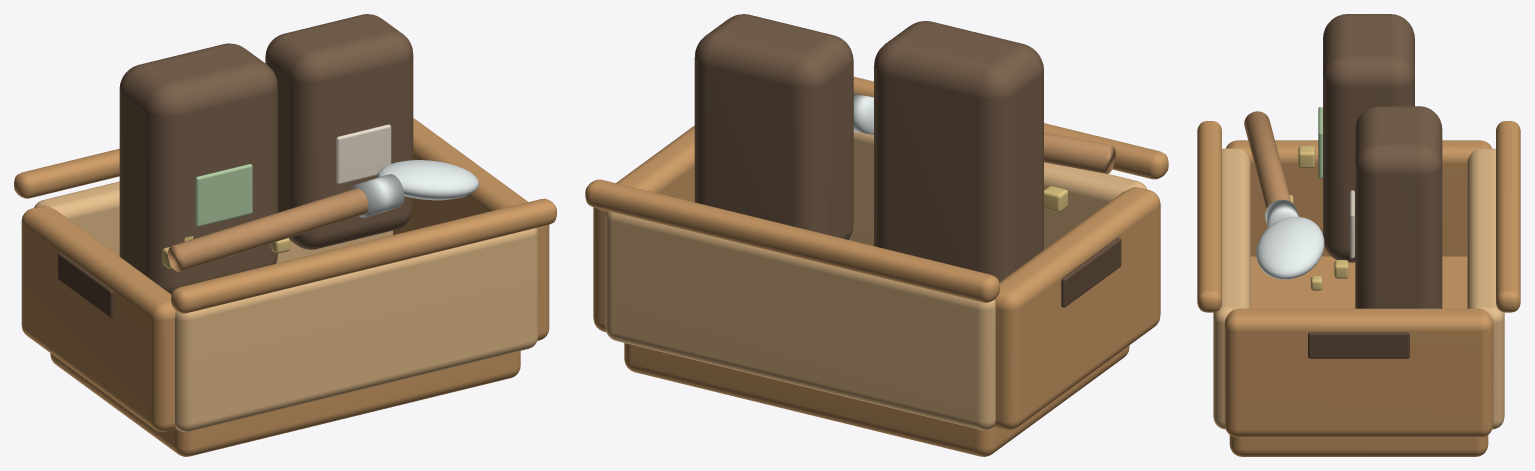
File: FarmSupplyKit.glb
3 views of the same model, side by side, from view 1: azimuth 30°, elevation 25°; view 2: azimuth 150°, elevation 25°; view 3: azimuth 270°, elevation 25° (orthographic). The views are drawn at different scales.
Parts seen in each view (by area): view 1: FarmSupplyKit_Crate_Front, FarmSupplyKit_Sack_Left, FarmSupplyKit_Sack_Right, FarmSupplyKit_Crate_Left, FarmSupplyKit_Crate_Rim_Front, FarmSupplyKit_Crate_Base, FarmSupplyKit_Crate_Right, FarmSupplyKit_Scoop_Handle, FarmSupplyKit_Crate_Back, FarmSupplyKit_Sack_Left_Label, FarmSupplyKit_Crate_Rim_Back, FarmSupplyKit_Scoop_Bowl (+3 smaller); view 2: FarmSupplyKit_Crate_Back, FarmSupplyKit_Sack_Left, FarmSupplyKit_Sack_Right, FarmSupplyKit_Crate_Left, FarmSupplyKit_Crate_Rim_Back, FarmSupplyKit_Crate_Base, FarmSupplyKit_Crate_Front, FarmSupplyKit_Crate_Right, FarmSupplyKit_Crate_Rim_Front, FarmSupplyKit_Scoop_Handle, FarmSupplyKit_Crate_Handle_Left, FarmSupplyKit_Scoop_Collar; view 3: FarmSupplyKit_Crate_Right, FarmSupplyKit_Sack_Right, FarmSupplyKit_Sack_Left, FarmSupplyKit_Crate_Base, FarmSupplyKit_Crate_Left, FarmSupplyKit_Crate_Front, FarmSupplyKit_Crate_Back, FarmSupplyKit_Crate_Rim_Front, FarmSupplyKit_Crate_Rim_Back, FarmSupplyKit_Scoop_Bowl, FarmSupplyKit_Crate_Handle_Right, FarmSupplyKit_Scoop_Handle (+4 smaller).
Boxes of the visible parts, x1,y1,x2,y2 form: FarmSupplyKit_Crate_Front: (175, 228, 538, 432); FarmSupplyKit_Sack_Left: (119, 43, 277, 294); FarmSupplyKit_Sack_Right: (265, 14, 413, 249); FarmSupplyKit_Crate_Left: (21, 205, 176, 431); FarmSupplyKit_Crate_Rim_Front: (171, 198, 556, 313); FarmSupplyKit_Crate_Base: (50, 351, 520, 456); FarmSupplyKit_Crate_Right: (393, 118, 549, 340); FarmSupplyKit_Scoop_Handle: (168, 188, 368, 271); FarmSupplyKit_Crate_Back: (34, 181, 392, 263); FarmSupplyKit_Sack_Left_Label: (195, 164, 252, 226); FarmSupplyKit_Crate_Rim_Back: (14, 148, 119, 198); FarmSupplyKit_Scoop_Bowl: (377, 160, 478, 200); FarmSupplyKit_Crate_Back: (605, 211, 995, 430); FarmSupplyKit_Sack_Left: (874, 21, 1043, 282); FarmSupplyKit_Sack_Right: (694, 14, 853, 239); FarmSupplyKit_Crate_Left: (994, 187, 1160, 430); FarmSupplyKit_Crate_Rim_Back: (585, 179, 999, 302); FarmSupplyKit_Crate_Base: (624, 343, 1129, 456); FarmSupplyKit_Crate_Front: (848, 131, 1147, 249); FarmSupplyKit_Crate_Right: (593, 125, 694, 332); FarmSupplyKit_Crate_Rim_Front: (853, 76, 1168, 179); FarmSupplyKit_Scoop_Handle: (1044, 132, 1115, 173); FarmSupplyKit_Crate_Handle_Left: (1061, 237, 1121, 307); FarmSupplyKit_Scoop_Collar: (853, 93, 873, 134); FarmSupplyKit_Crate_Right: (1224, 308, 1493, 437); FarmSupplyKit_Sack_Right: (1355, 106, 1442, 308); FarmSupplyKit_Sack_Left: (1323, 14, 1414, 262); FarmSupplyKit_Crate_Base: (1229, 256, 1488, 456); FarmSupplyKit_Crate_Left: (1226, 140, 1491, 256); FarmSupplyKit_Crate_Front: (1213, 148, 1250, 429); FarmSupplyKit_Crate_Back: (1467, 148, 1504, 429); FarmSupplyKit_Crate_Rim_Front: (1197, 121, 1221, 312); FarmSupplyKit_Crate_Rim_Back: (1496, 121, 1520, 312); FarmSupplyKit_Scoop_Bowl: (1256, 217, 1324, 279); FarmSupplyKit_Crate_Handle_Right: (1308, 332, 1409, 358); FarmSupplyKit_Scoop_Handle: (1244, 111, 1291, 208).
Size of the model in its own units: 0.89 by 0.6825 by 0.65.
